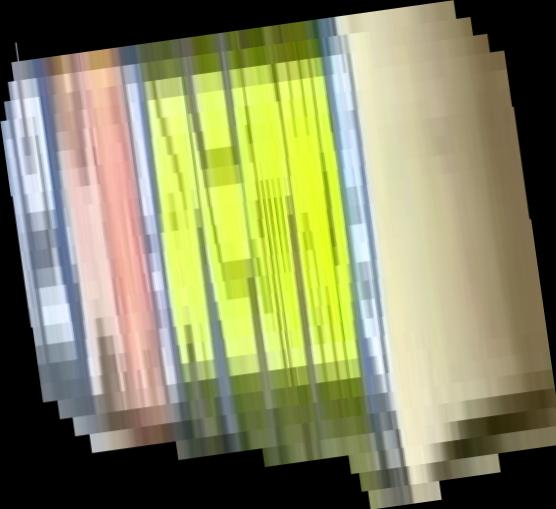flat: (1, 1, 556, 509)
